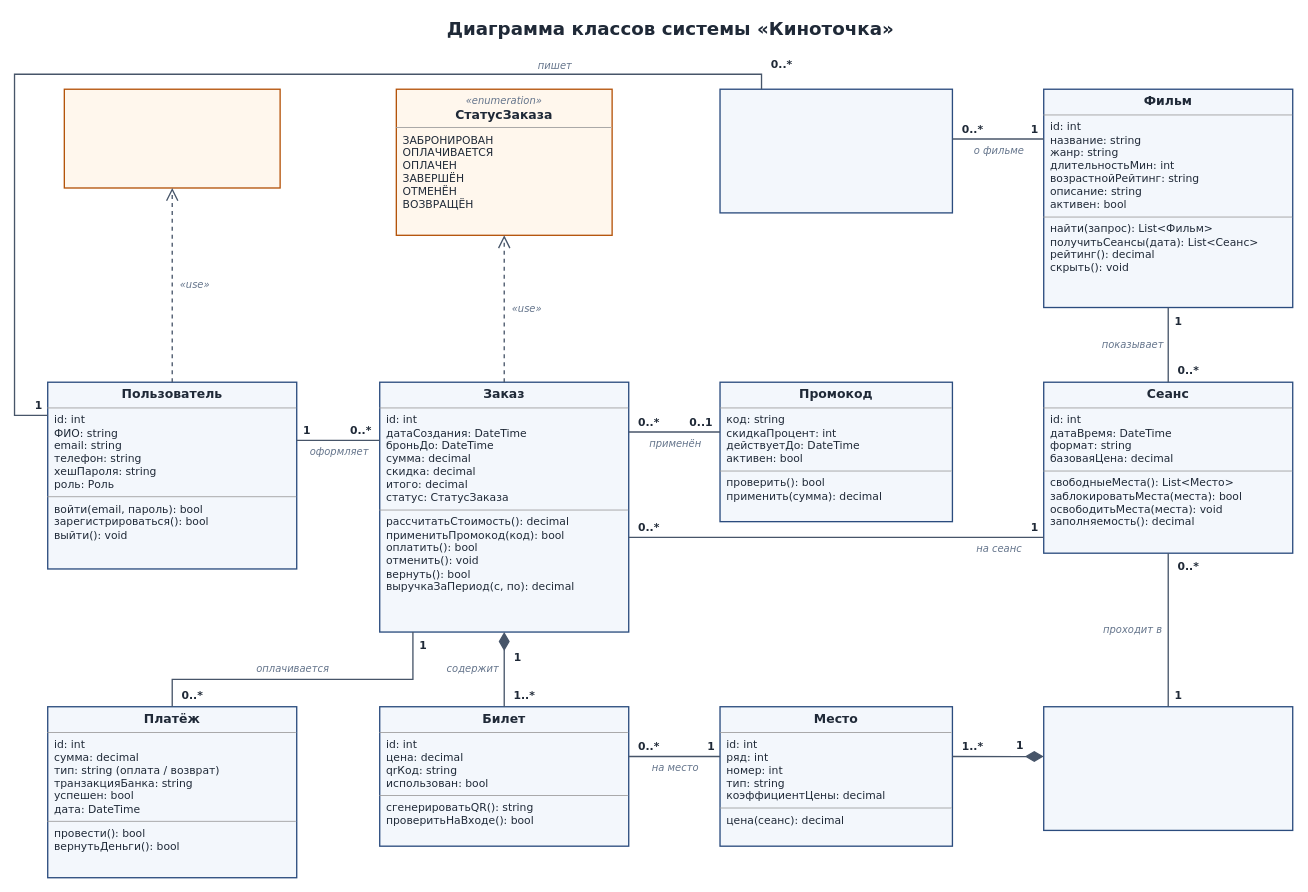
The diagram is 1308 pixels wide and 892 high, and some of its shapes have lost their labels. Here are the shapes that lost their labels. From the top down, the centre of each, then its label:
At point (171, 138): "«enumeration» Роль ЗРИТЕЛЬ КАССИР АДМИНИСТРАТОР".
At point (836, 150): "Отзыв id: int оценка: int (1–5) текст: string дата: DateTime оставить(): bool".
At point (1168, 768): "Зал id: int номер: int рядов: int местВРяду: int схемаМест(): List<Место>".
